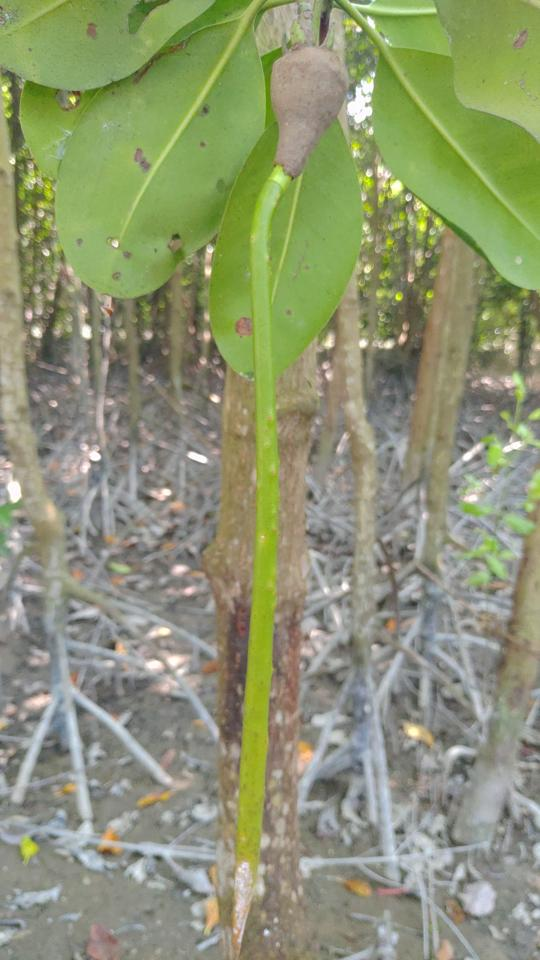setengah matang: (213, 23, 363, 956)
